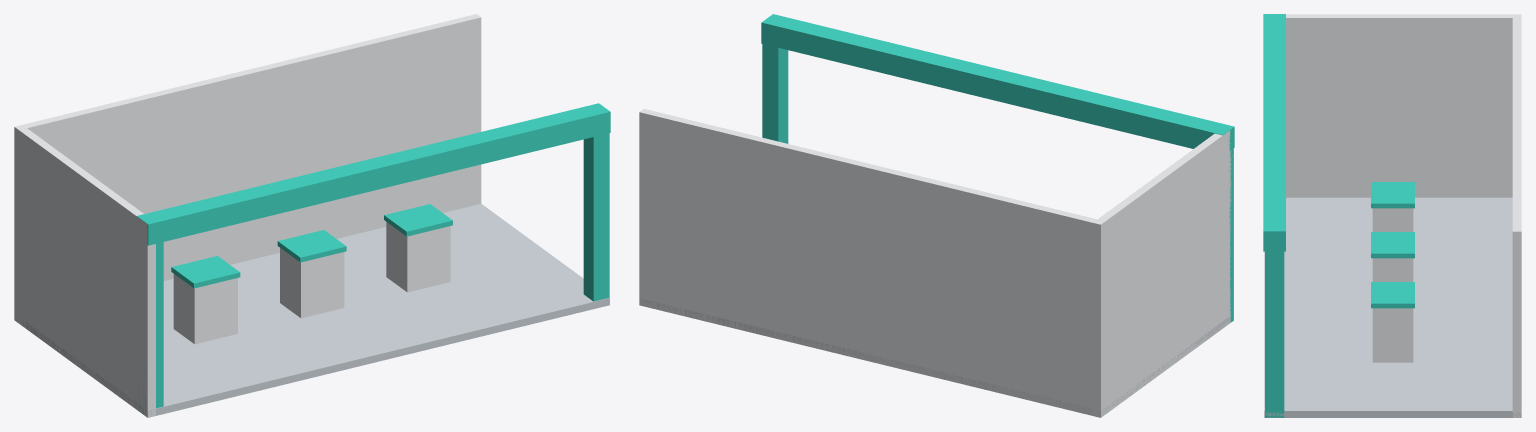
3 views of the same model, side by side, from view 1: azimuth 30°, elevation 25°; view 2: azimuth 150°, elevation 25°; view 3: azimuth 270°, elevation 25° (orthographic). The views are drawn at different scales.
Visible parts, largest first — view 1: Exhibition Booth Concept; view 2: Exhibition Booth Concept; view 3: Exhibition Booth Concept.
Part boxes in pixels (bbox=[...]): Exhibition Booth Concept: bbox=[14, 14, 610, 417]; Exhibition Booth Concept: bbox=[639, 14, 1234, 417]; Exhibition Booth Concept: bbox=[1263, 14, 1521, 417].
Bounding box in the file's own units: 8 × 3.2 × 4.02.
